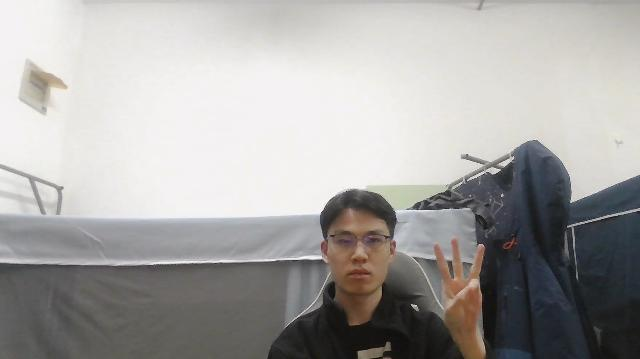three: (433, 234, 488, 317)
